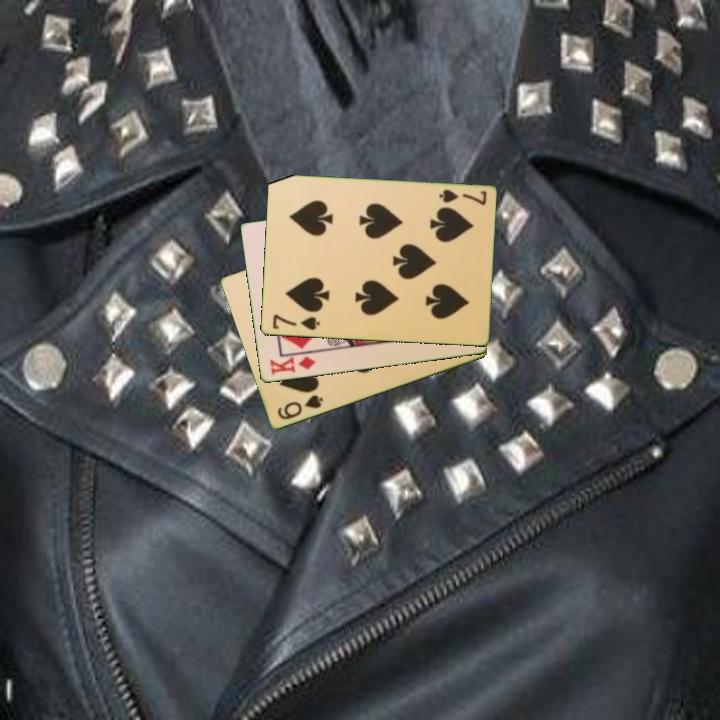6s: (273, 392, 326, 423)
7s: (435, 186, 489, 208), (269, 311, 322, 333)
Kd: (266, 353, 318, 378)
